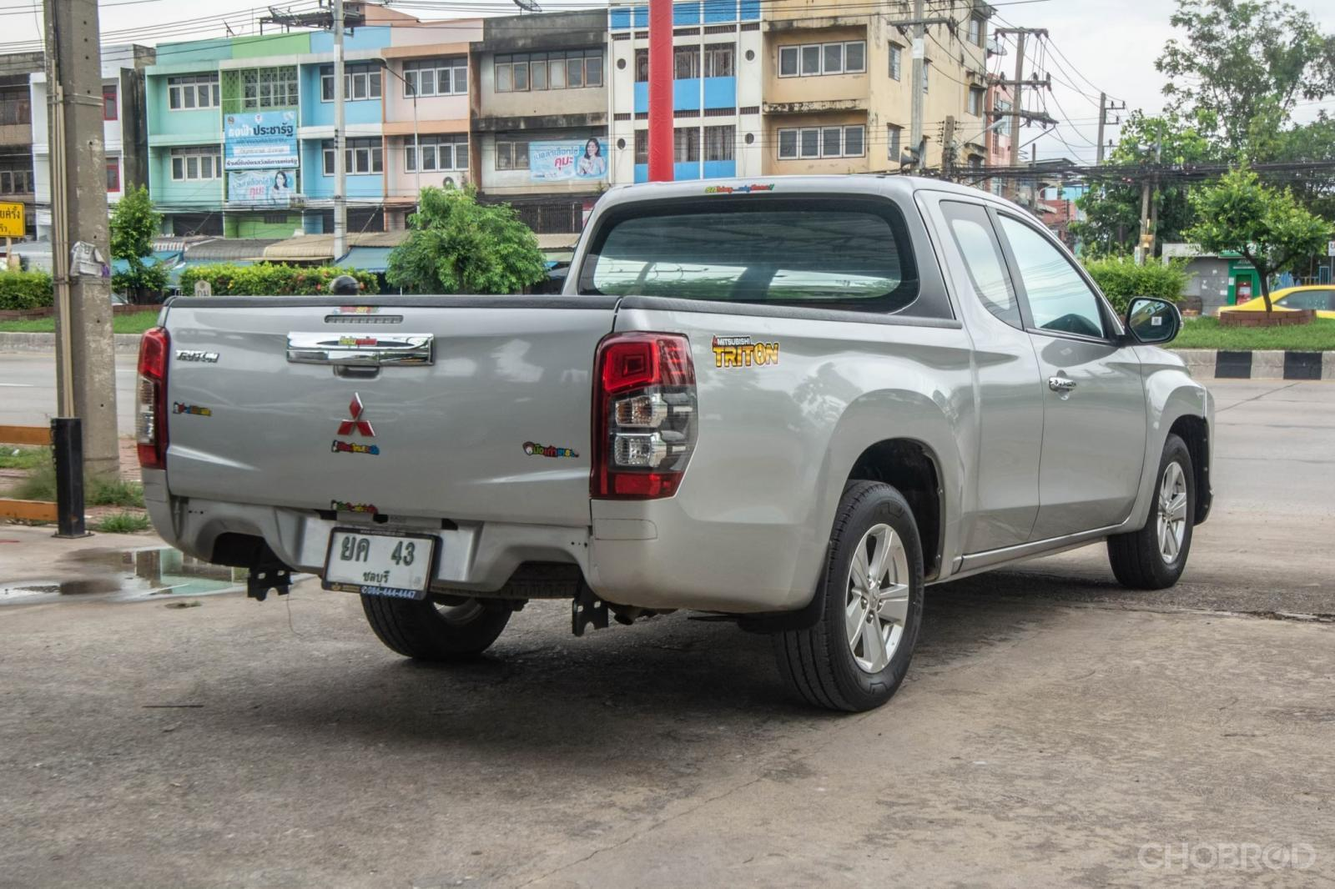license-plate: (322, 527, 438, 601)
